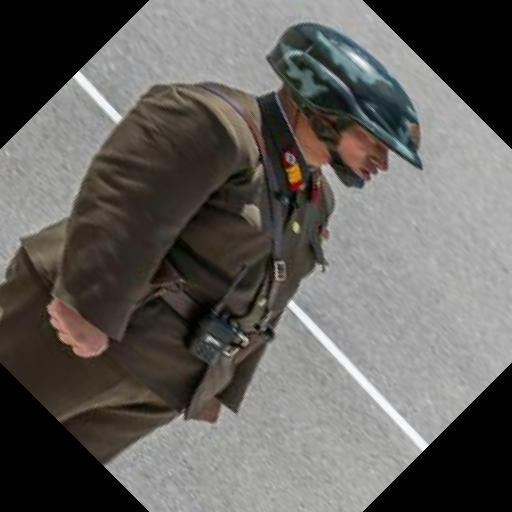north army: (43, 38, 439, 441)
